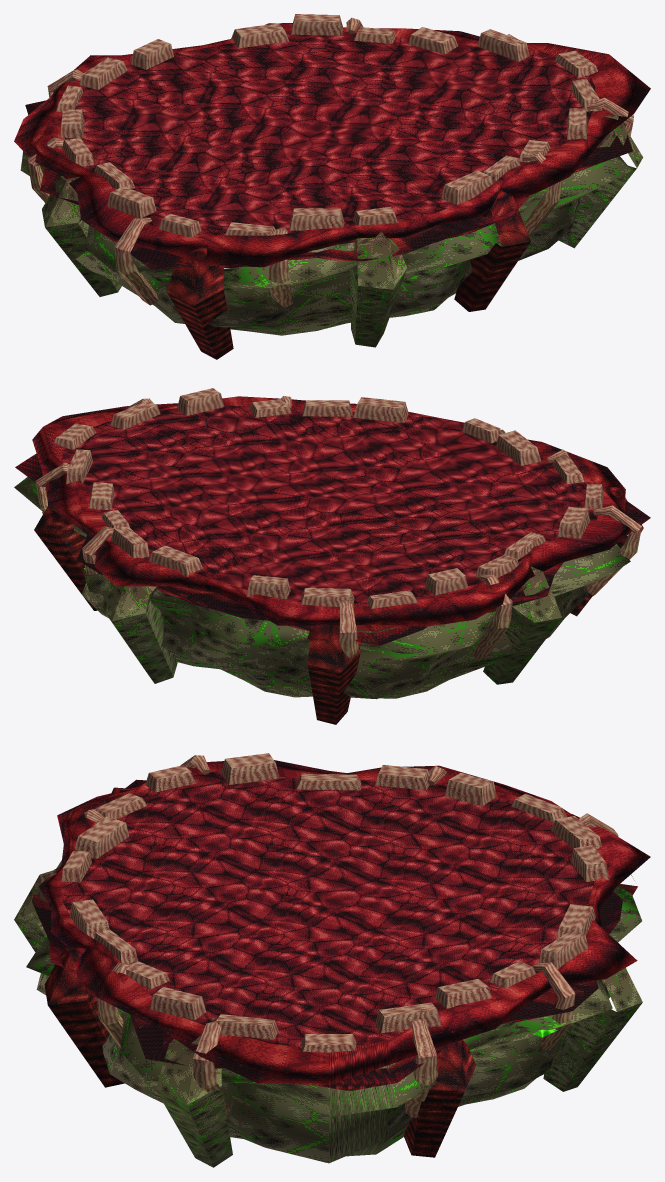
File: Arena_South_OssuaryEntry.glb
3 views of the same model, one above another, from view 1: azimuth 30°, elevation 25°; view 2: azimuth 150°, elevation 25°; view 3: azimuth 270°, elevation 25° (orthographic). The views are drawn at different scales.
Visible parts, largest first — view 1: SouthOssuary_Deck, SouthOssuary_CliffFlesh, SouthOssuary_CliffCalcified, SouthOssuary_CartilageBricksAndRibs; view 2: SouthOssuary_Deck, SouthOssuary_CliffCalcified, SouthOssuary_CliffFlesh, SouthOssuary_CartilageBricksAndRibs; view 3: SouthOssuary_Deck, SouthOssuary_CliffFlesh, SouthOssuary_CliffCalcified, SouthOssuary_CartilageBricksAndRibs.
Boxes of the visible parts, bbox=[...] form: SouthOssuary_Deck: bbox=[61, 30, 595, 235]; SouthOssuary_CliffFlesh: bbox=[14, 23, 650, 359]; SouthOssuary_CliffCalcified: bbox=[20, 115, 643, 347]; SouthOssuary_CartilageBricksAndRibs: bbox=[27, 14, 633, 308]; SouthOssuary_Deck: bbox=[62, 405, 597, 607]; SouthOssuary_CliffCalcified: bbox=[14, 414, 630, 699]; SouthOssuary_CliffFlesh: bbox=[15, 396, 650, 724]; SouthOssuary_CartilageBricksAndRibs: bbox=[35, 388, 641, 659]; SouthOssuary_Deck: bbox=[60, 771, 594, 1047]; SouthOssuary_CliffFlesh: bbox=[32, 760, 650, 1157]; SouthOssuary_CliffCalcified: bbox=[14, 785, 642, 1167]; SouthOssuary_CartilageBricksAndRibs: bbox=[61, 753, 618, 1117].
Bounding box in the file's own units: 26.87 × 6.43 × 22.59.
5 materials, 5 textured.
